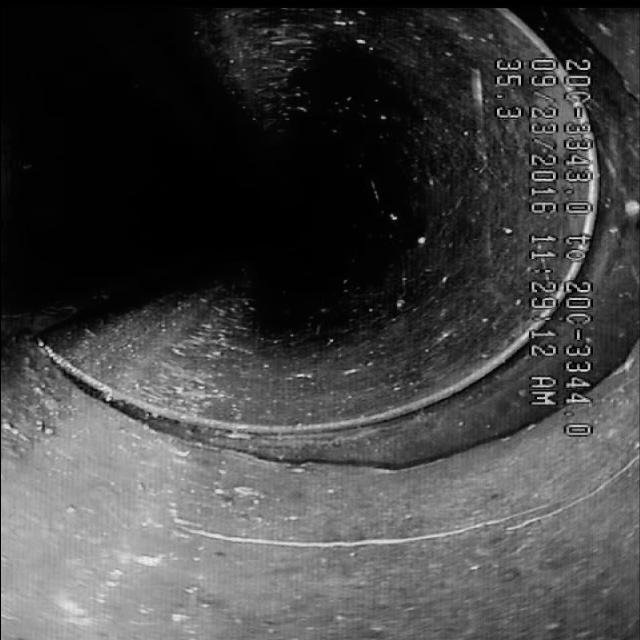Crack: (170, 478, 578, 574)
